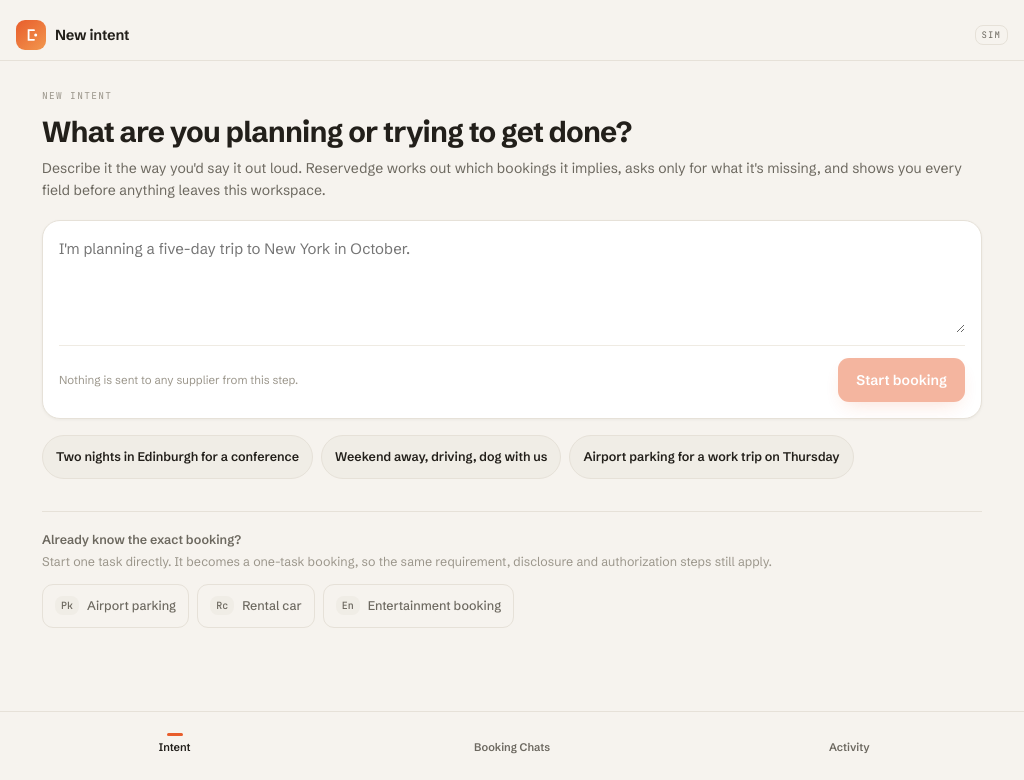
Test case: COMP-UX-NEXT multi-domain workspace › renders stay sandbox results and rental without invented inventory
The width and height of the screenshot is (1024, 780).
In the text box labelled "What are you planning or trying to get done?": (512, 285) [59,237,965,333], type "I'm travelling to Milan from Mumbai from 20 to 30 October"
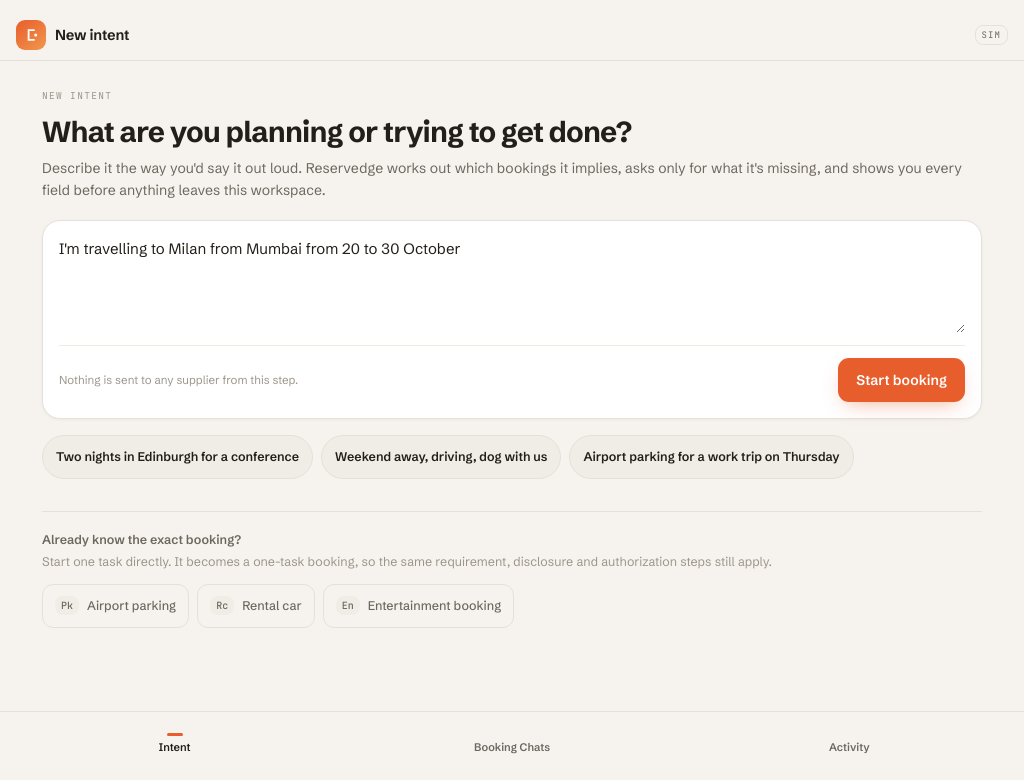
Click the button "Start booking": (902, 380) [838,358,965,402]
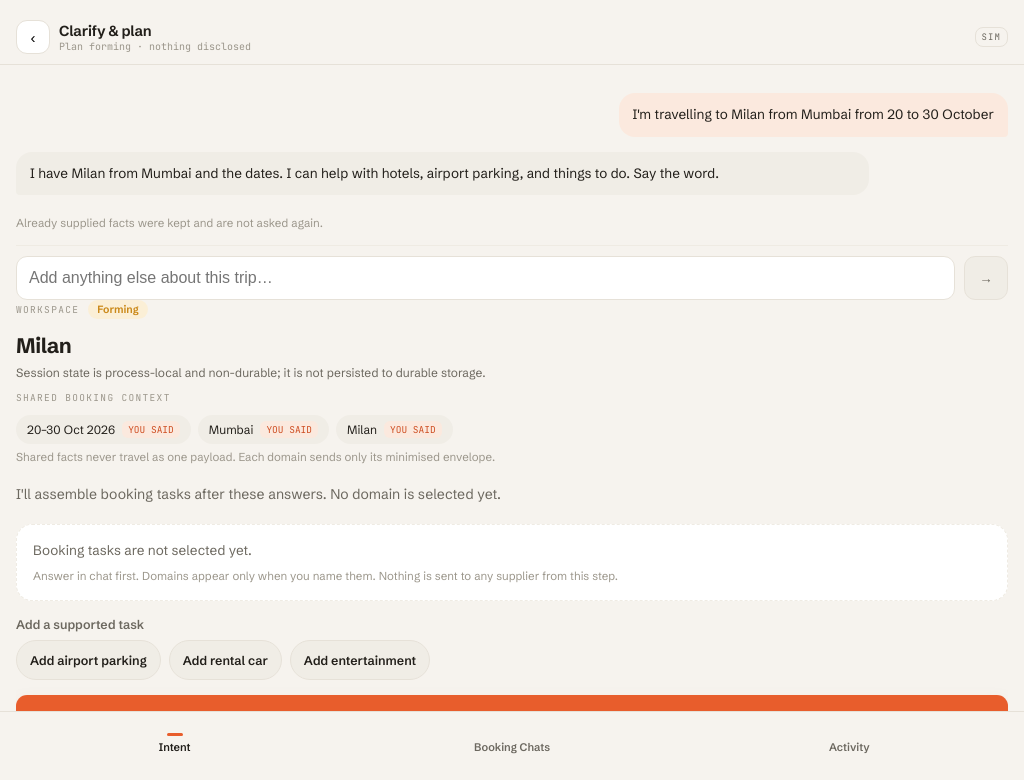
In the field labelled "Add anything else about this trip": (486, 278) [16,256,955,300], type "Flights are booked. I need a hotel and rental car."
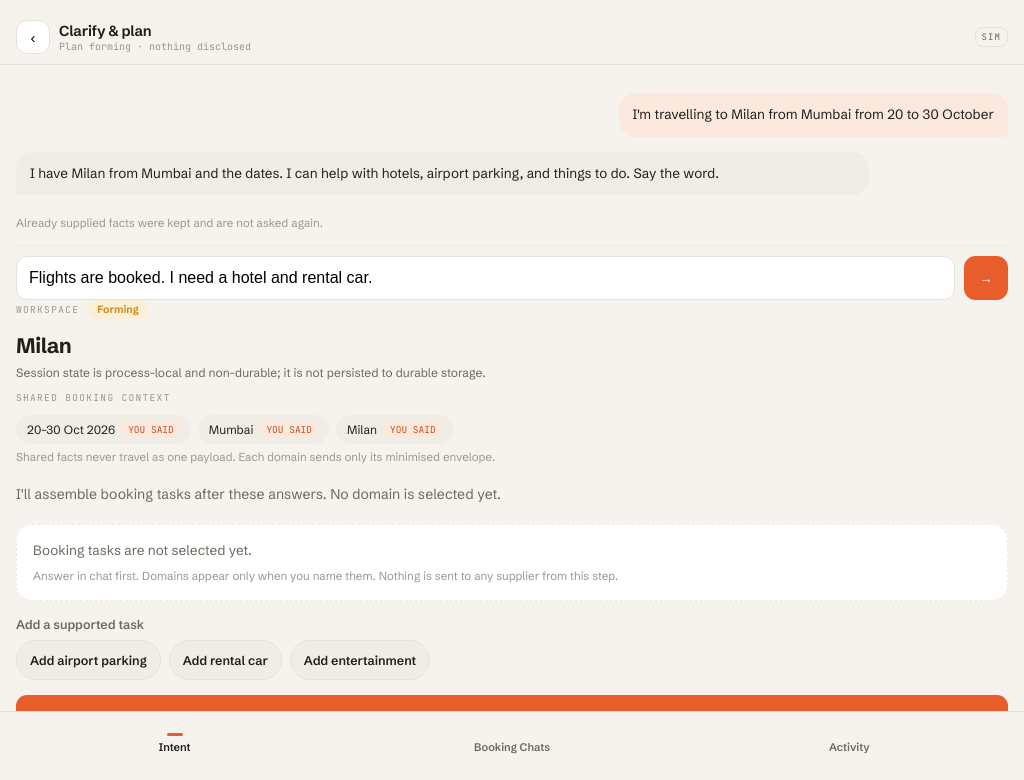
Click the button named "Add note": (986, 278) [964,256,1008,300]
(page scrolled)
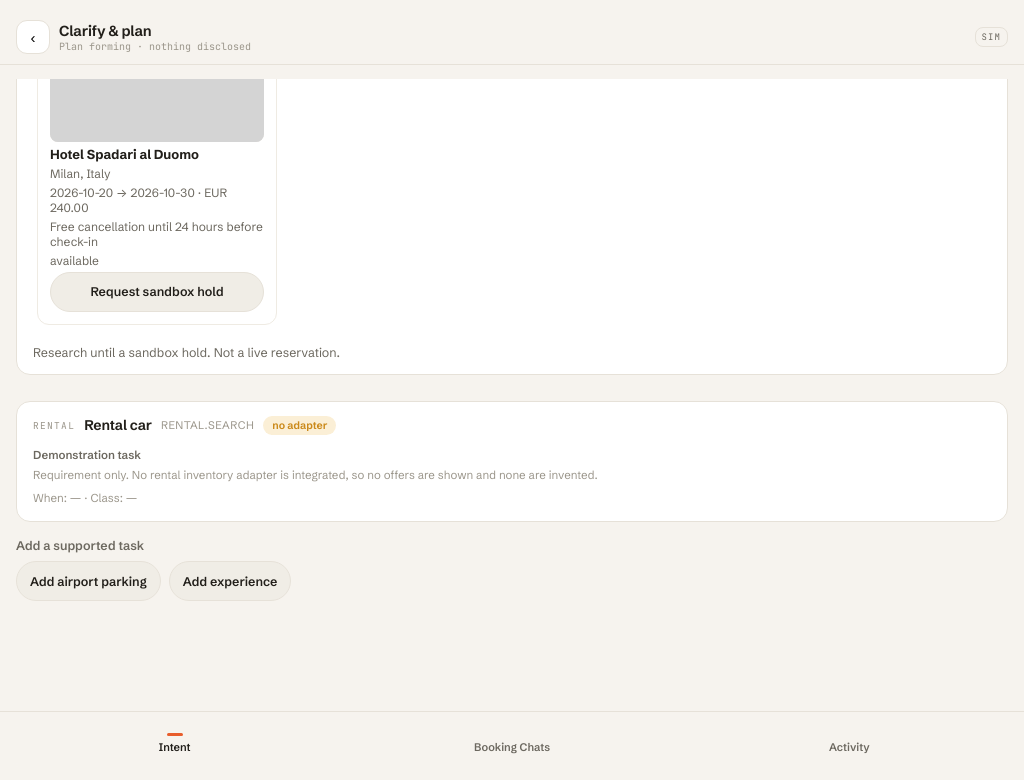
Now the text "Hotel Spadari al Duomo" is shown, box [50,146,199,162]
Now the list named "Stay offers, scroll sideways" is shown, box [37,79,277,325]
Now the text "rental.search" is shown, box [161,418,254,432]
